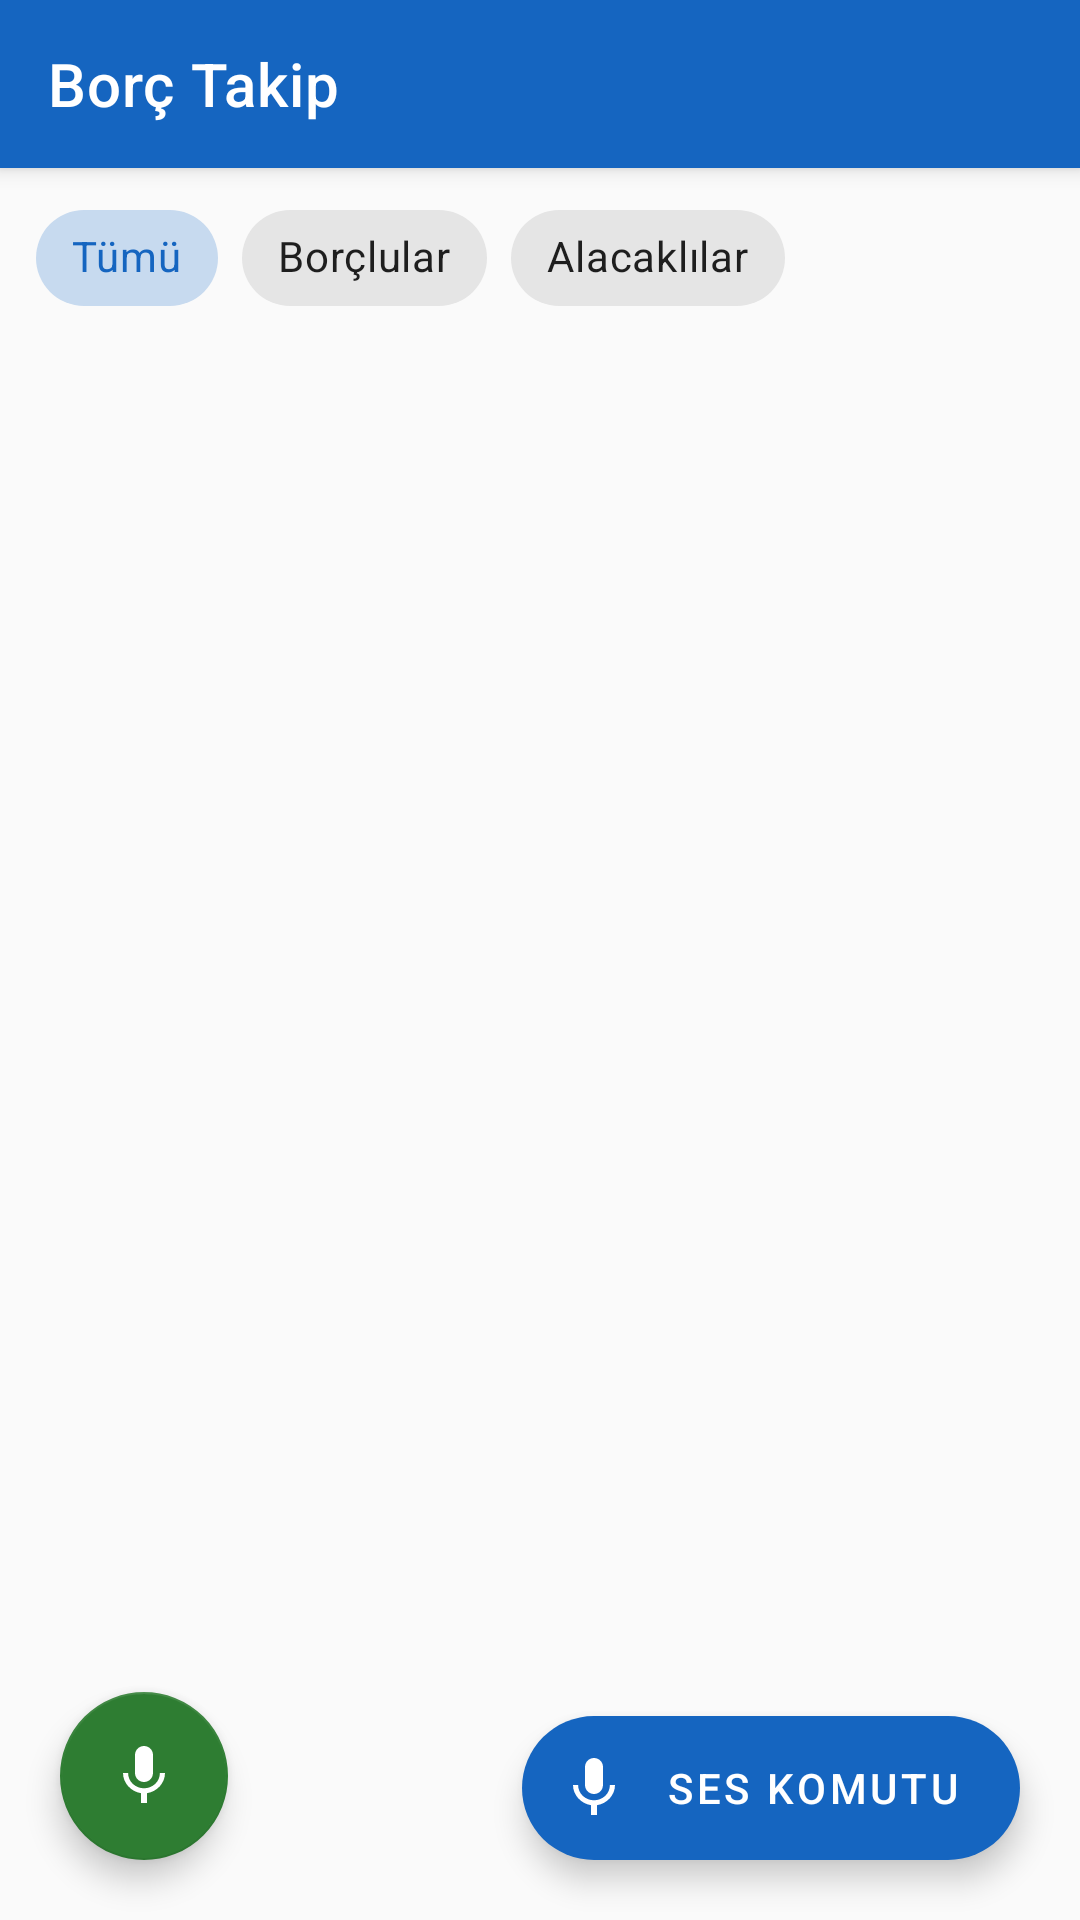

Locate icon controls on the screen. Image size 1080 × 1920, boxes as (x1, y1, x2, y2).
Sesli Ara: (60, 1692, 228, 1860)
